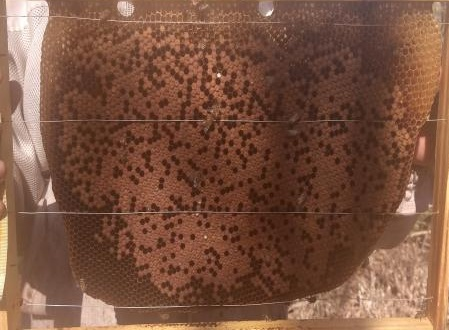cria: (55, 25, 414, 309)
